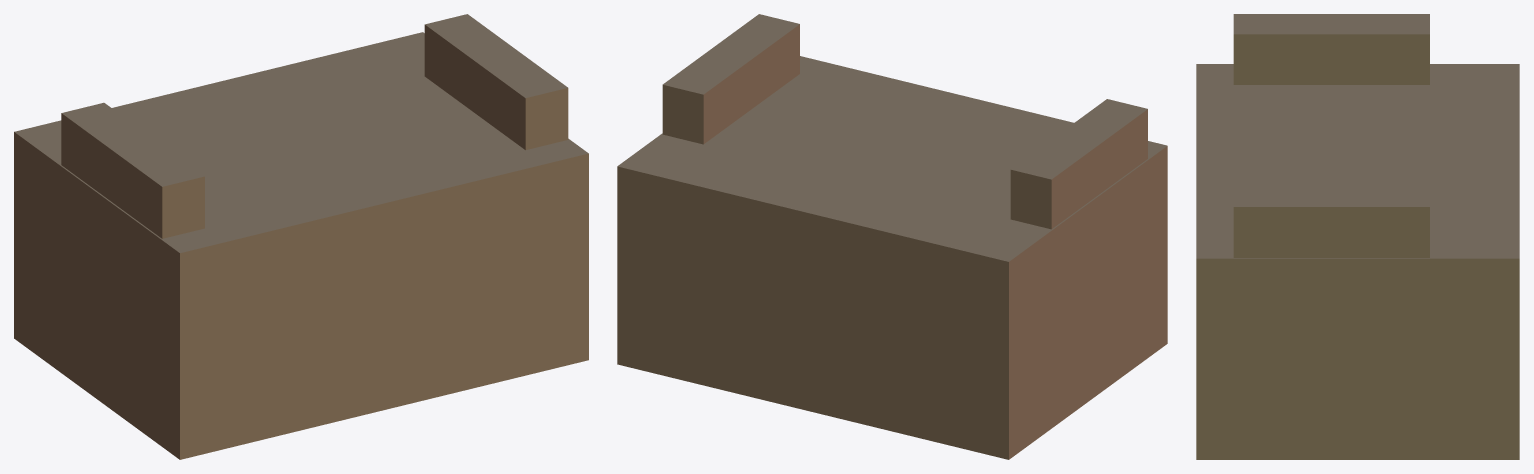
The model's file is cr-stucco-duplex.far-facades-v3.lod2.glb.
3 views of the same model, side by side, from view 1: azimuth 30°, elevation 25°; view 2: azimuth 150°, elevation 25°; view 3: azimuth 270°, elevation 25° (orthographic). The views are drawn at different scales.
Parts seen in each view (by area): view 1: cr-stucco-duplex; view 2: cr-stucco-duplex; view 3: cr-stucco-duplex.
Boxes of the visible parts, box(x1,y1,x2,y2) form: cr-stucco-duplex: box(14, 14, 588, 459); cr-stucco-duplex: box(617, 14, 1167, 459); cr-stucco-duplex: box(1196, 14, 1519, 459).
Size of the model in its own units: 14.8 by 8.95 by 10.4.
